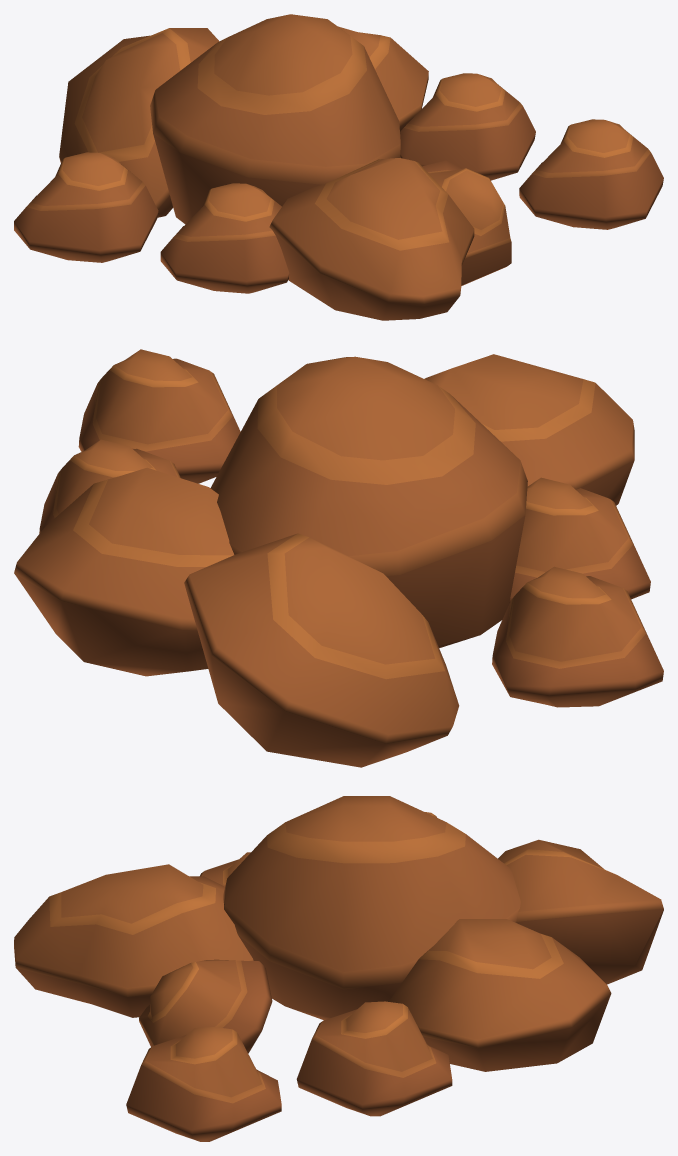
The model's file is bronze_ore_pile.fbx.
The picture shows the model from 3 angles, top to bottom: view 1: azimuth 30°, elevation 25°; view 2: azimuth 150°, elevation 25°; view 3: azimuth 270°, elevation 25°; orthographic projection. The views are drawn at different scales.
Parts seen in each view (by area): view 1: bronze_ore_pile; view 2: bronze_ore_pile; view 3: bronze_ore_pile.
Part boxes in pixels (x1,y1,x2,y2): bronze_ore_pile: (14, 14, 663, 320); bronze_ore_pile: (14, 349, 663, 767); bronze_ore_pile: (14, 796, 663, 1141).
Size of the model in its own units: 142 by 54.59 by 137.
Materials: 1 (1 with a texture image).
